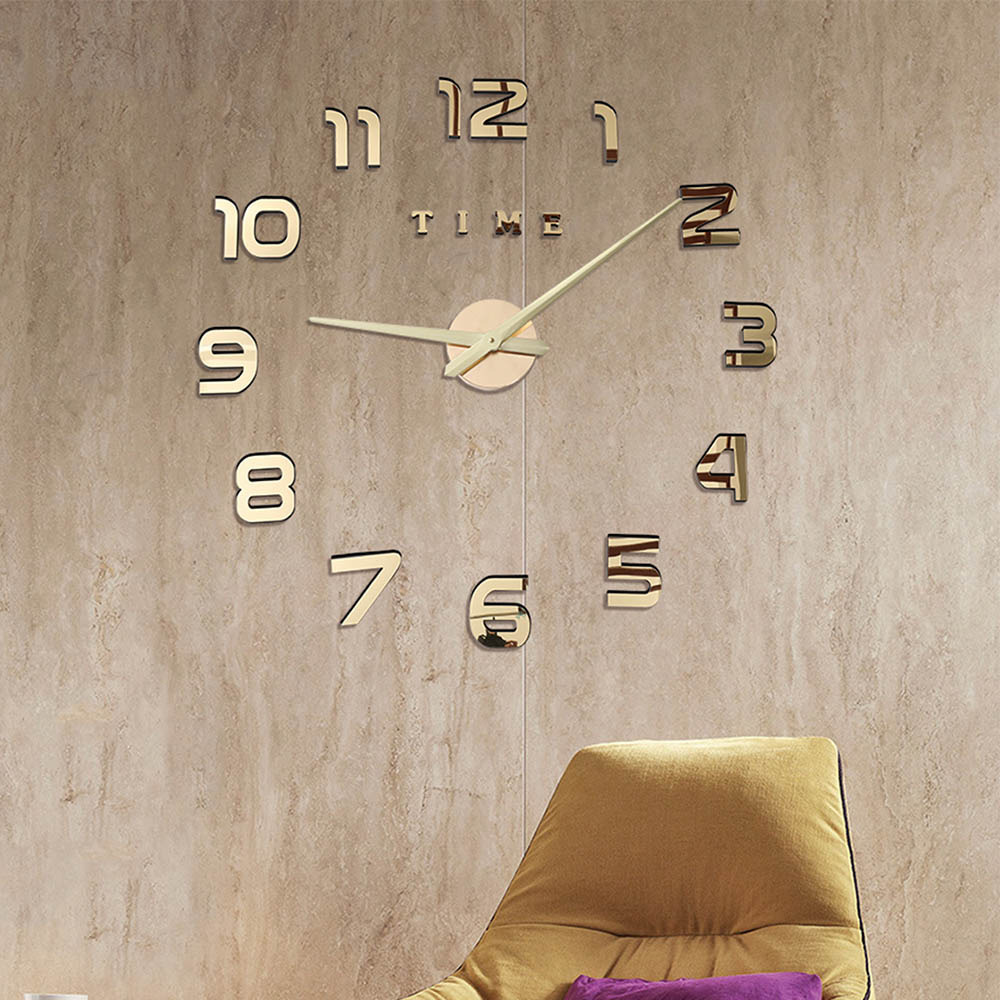jam dinding: (165, 43, 803, 673)
